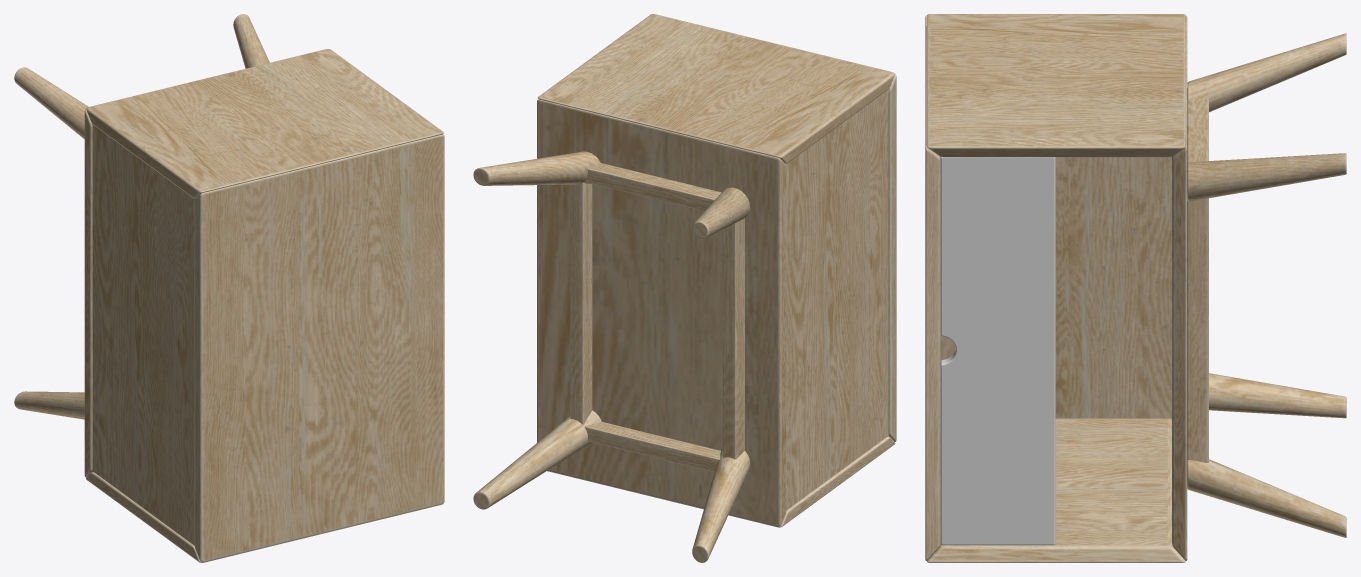
Rendered from Modern_Cupboard.gltf.
3 renders of one model, left to right at view 1: azimuth 30°, elevation 25°; view 2: azimuth 150°, elevation 25°; view 3: azimuth 270°, elevation 25°, orthographic. The views are drawn at different scales.
Parts seen in each view (by area): view 1: Bedside_Bedroom; view 2: Bedside_Bedroom; view 3: Bedside_Bedroom.
Part boxes in pixels (bbox=[...]): Bedside_Bedroom: bbox=[14, 14, 444, 562]; Bedside_Bedroom: bbox=[473, 14, 896, 562]; Bedside_Bedroom: bbox=[925, 14, 1346, 562].
Size of the model in its own units: 0.4136 by 0.6 by 0.5495.
1 material, 1 textured.
